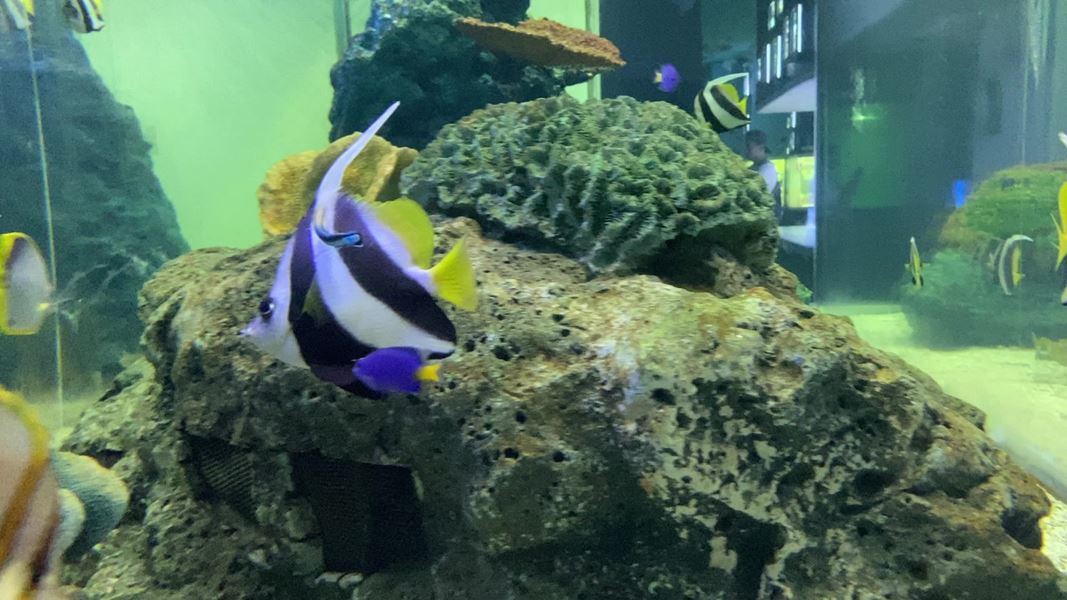Bluesteak cleaner wrasse: (306, 193, 364, 258)
